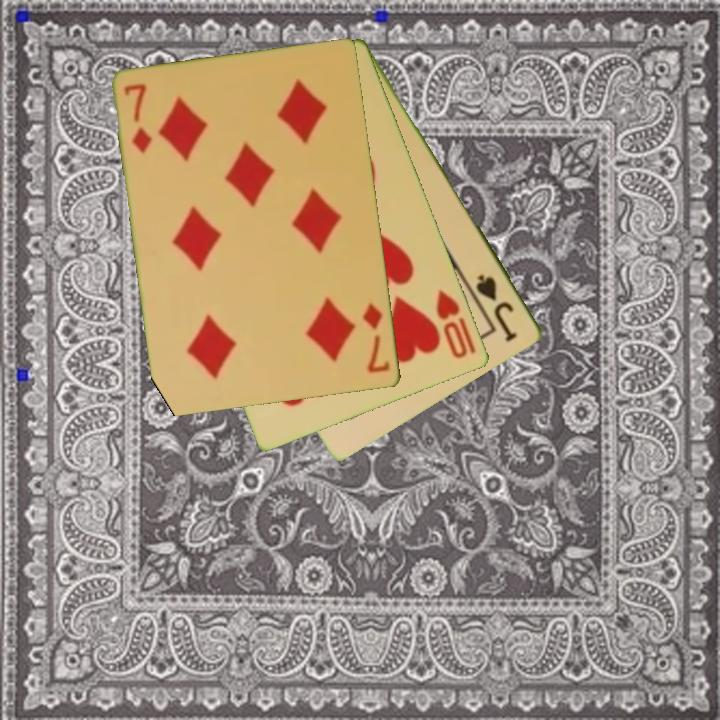10h: (433, 285, 471, 362)
7d: (121, 80, 155, 156), (360, 300, 393, 376)
Js: (473, 270, 521, 344)
